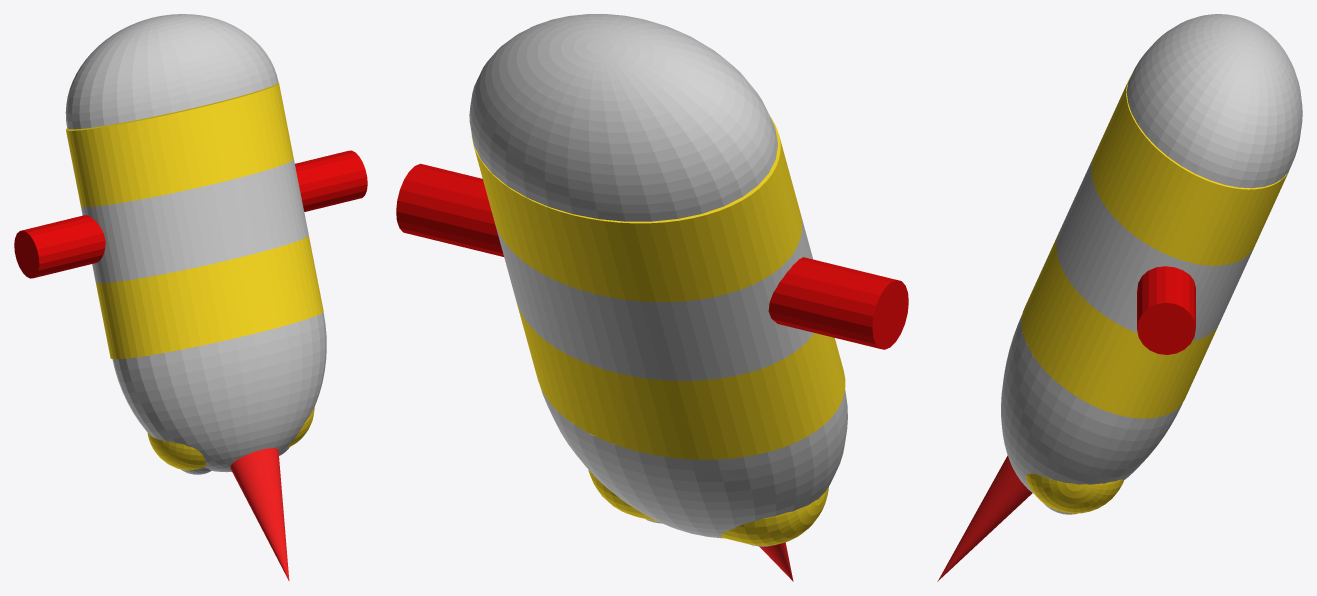
The model's file is tinker.obj.
The picture shows the model from 3 angles, left to right: view 1: azimuth 30°, elevation 25°; view 2: azimuth 150°, elevation 25°; view 3: azimuth 270°, elevation 25°; orthographic projection. The views are drawn at different scales.
Parts seen in each view (by area): view 1: group_0_0, group_0_16768282, group_0_14548992, group_0_16718362; view 2: group_0_0, group_0_16768282, group_0_14548992; view 3: group_0_0, group_0_16768282, group_0_14548992, group_0_16718362.
Part boxes in pixels (x1,y1,x2,y2): group_0_0: (65,14,326,474); group_0_16768282: (66,82,323,470); group_0_14548992: (14,150,367,278); group_0_16718362: (230,448,289,580); group_0_0: (469,14,847,546); group_0_16768282: (471,117,845,545); group_0_14548992: (396,163,908,349); group_0_0: (1001,14,1302,514); group_0_16768282: (1021,76,1290,513); group_0_14548992: (1137,266,1195,354); group_0_16718362: (937,455,1032,581).
Size of the model in its own units: 17.88 by 24.53 by 14.71.
